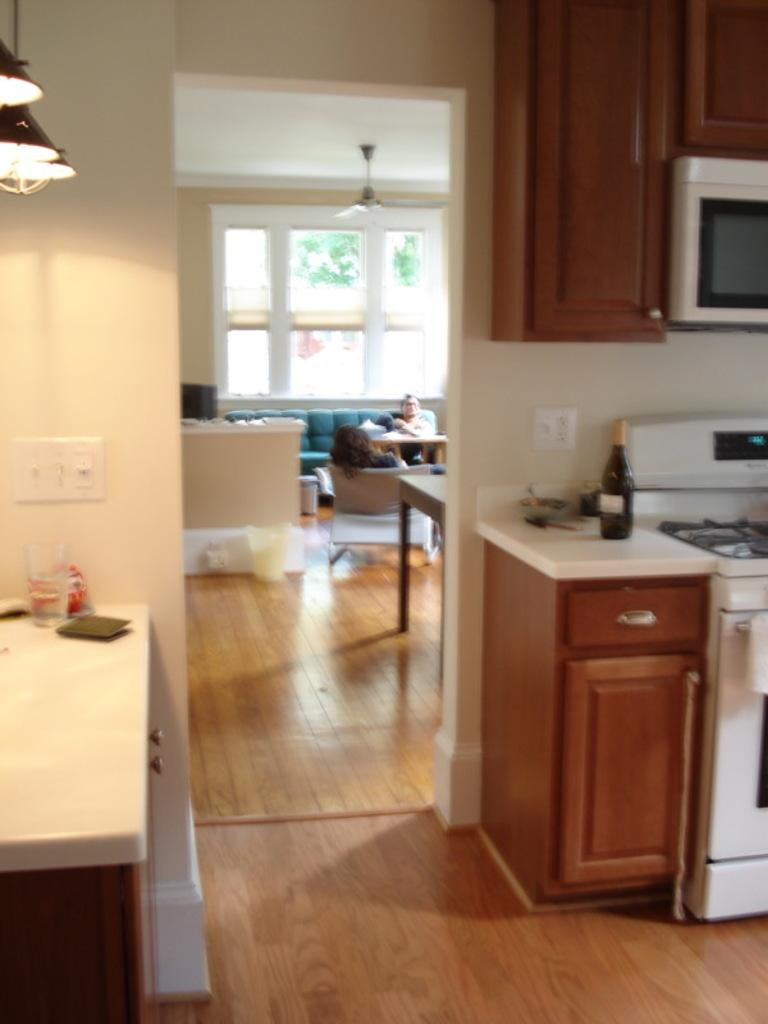cabinet_door: (532, 27, 662, 334), (573, 662, 688, 888), (571, 590, 700, 648)
handle: (620, 596, 654, 636), (146, 718, 168, 752), (644, 294, 663, 332), (144, 750, 166, 780)
